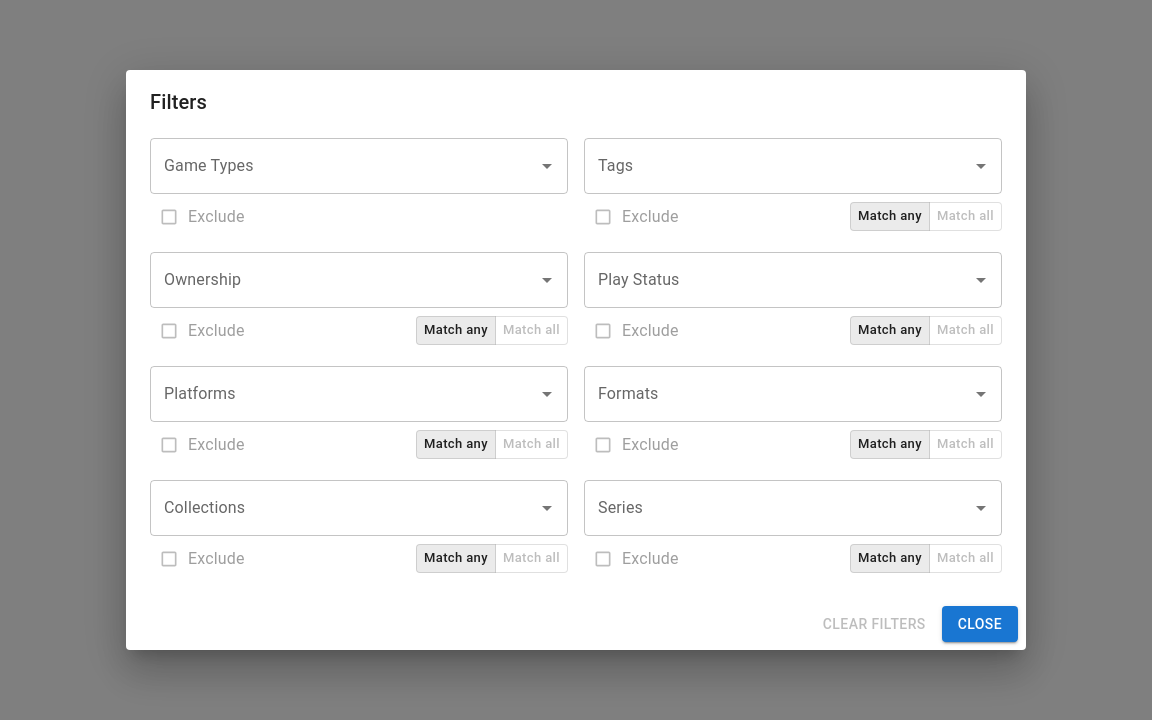
Test: GameFilterDialog match mode › lists the play statuses, including Not started
Click the dropdown labelled "Play Status": x=778, y=280 [593, 261, 963, 299]
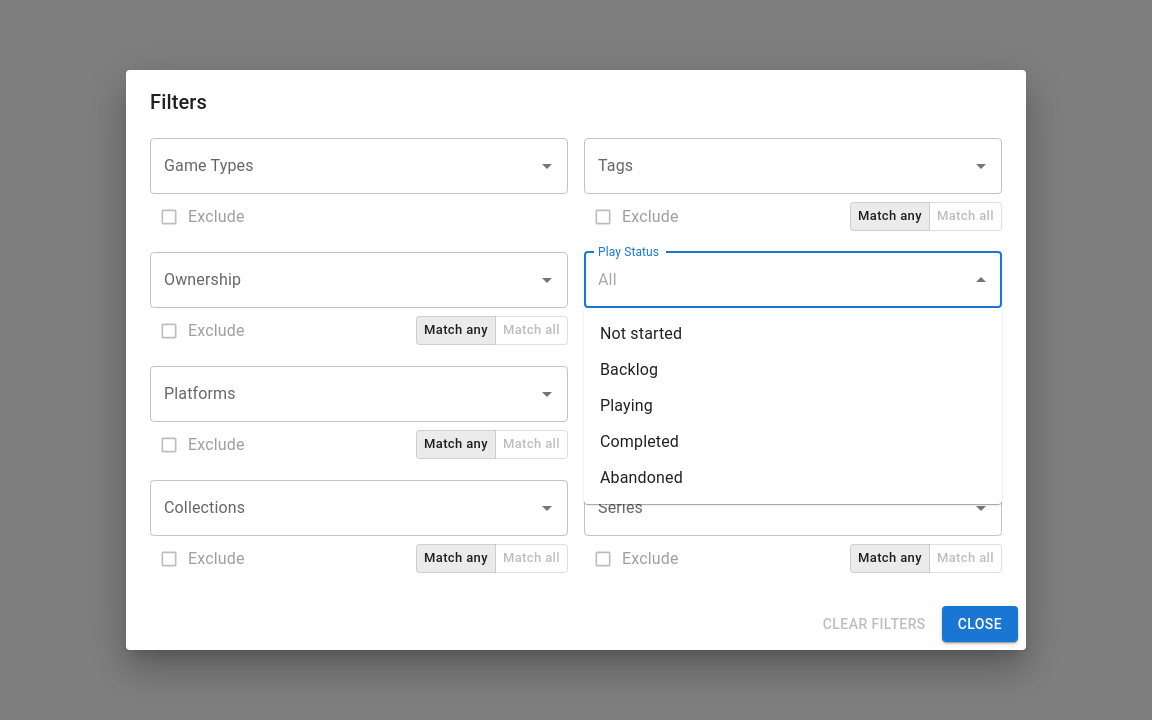
expect the option "Not started" is shown: met, box [600, 324, 682, 343]
expect the option "Backlog" is shown: met, box [600, 360, 658, 379]
expect the option "Playing" is shown: met, box [600, 396, 653, 415]
